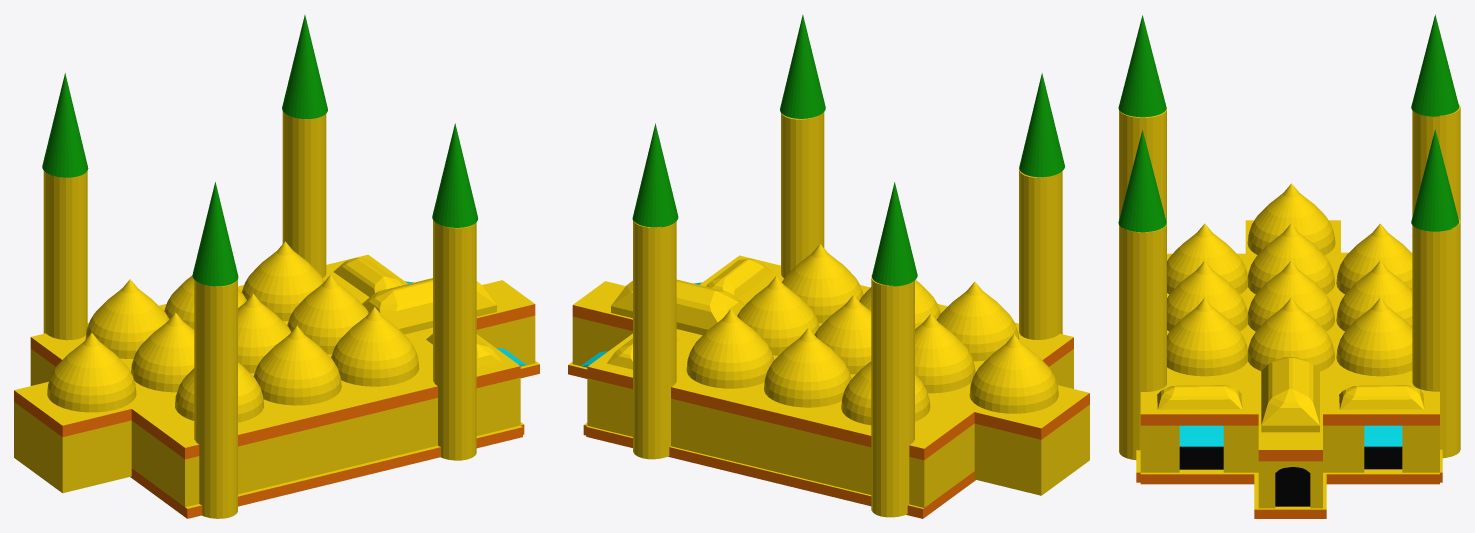
The model's file is penyengat.fbx.
3 views of the same model, side by side, from view 1: azimuth 30°, elevation 25°; view 2: azimuth 150°, elevation 25°; view 3: azimuth 270°, elevation 25° (orthographic).
Parts seen in each view (by area): view 1: Cube, Sphere.002, Cylinder, Cylinder.003, Sphere.001, Sphere, Cylinder.002, Cylinder.001, Sphere.003, Cube.001, Cone.002, Cone.003 (+3 smaller); view 2: Cube, Sphere, Cylinder.002, Cylinder.001, Sphere.001, Sphere.002, Cylinder.003, Cylinder, Sphere.003, Cube.001, Cone.002, Cone.001 (+3 smaller); view 3: Cube, Sphere.002, Sphere.001, Sphere, Cylinder.001, Cylinder, Cube.001, Sphere.003, Cylinder.002, Cylinder.003, Cone.002, Cone.001 (+4 smaller).
Part boxes in pixels (x1=…): Cube: x1=14, y1=254, x2=539, y2=518; Sphere.002: x1=175, y1=307, x2=419, y2=422; Cylinder: x1=433, y1=220, x2=476, y2=460; Cylinder.003: x1=194, y1=279, x2=237, y2=518; Sphere.001: x1=131, y1=274, x2=368, y2=392; Sphere: x1=85, y1=241, x2=324, y2=358; Cylinder.002: x1=43, y1=171, x2=87, y2=340; Cylinder.001: x1=282, y1=111, x2=326, y2=277; Sphere.003: x1=47, y1=333, x2=136, y2=412; Cube.001: x1=362, y1=278, x2=496, y2=334; Cone.002: x1=192, y1=182, x2=238, y2=286; Cone.003: x1=42, y1=73, x2=88, y2=177; Cube: x1=568, y1=255, x2=1089, y2=518; Sphere: x1=686, y1=309, x2=930, y2=425; Cylinder.002: x1=871, y1=274, x2=914, y2=517; Cylinder.001: x1=633, y1=220, x2=676, y2=459; Sphere.001: x1=737, y1=276, x2=975, y2=393; Sphere.002: x1=782, y1=244, x2=1019, y2=361; Cylinder.003: x1=1019, y1=168, x2=1062, y2=339; Cylinder: x1=781, y1=112, x2=824, y2=277; Sphere.003: x1=969, y1=334, x2=1058, y2=413; Cube.001: x1=611, y1=279, x2=745, y2=335; Cone.002: x1=1019, y1=73, x2=1064, y2=177; Cone.001: x1=780, y1=14, x2=825, y2=118; Cube: x1=1136, y1=220, x2=1442, y2=518; Sphere.002: x1=1167, y1=223, x2=1247, y2=376; Sphere.001: x1=1248, y1=223, x2=1334, y2=371; Sphere: x1=1336, y1=223, x2=1412, y2=376; Cylinder.001: x1=1412, y1=218, x2=1460, y2=458; Cylinder: x1=1119, y1=223, x2=1166, y2=459; Cube.001: x1=1261, y1=357, x2=1319, y2=432; Sphere.003: x1=1247, y1=183, x2=1335, y2=254; Cylinder.002: x1=1412, y1=104, x2=1460, y2=221; Cylinder.003: x1=1119, y1=108, x2=1166, y2=222; Cone.002: x1=1118, y1=15, x2=1166, y2=117; Cone.001: x1=1118, y1=130, x2=1166, y2=232.
Size of the model in its own units: 2697 by 1755 by 1688.
